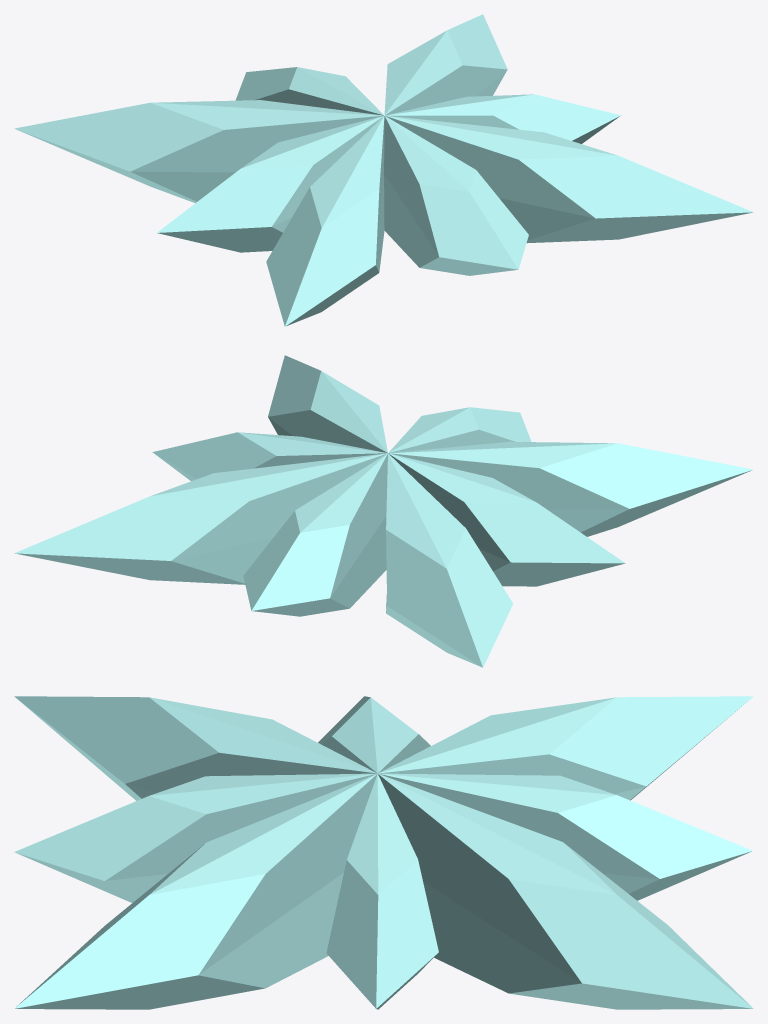
File: showflakeModel.fbx
3 views of the same model, one above another, from view 1: azimuth 30°, elevation 25°; view 2: azimuth 150°, elevation 25°; view 3: azimuth 270°, elevation 25° (orthographic). The views are drawn at different scales.
Parts seen in each view (by area): view 1: Cube.001; view 2: Cube.001; view 3: Cube.001.
Boxes of the visible parts, bbox=[...] form: Cube.001: bbox=[14, 14, 753, 326]; Cube.001: bbox=[14, 355, 753, 667]; Cube.001: bbox=[14, 696, 753, 1009].
Bounding box in the file's own units: 2.17 × 0.5081 × 2.17.
